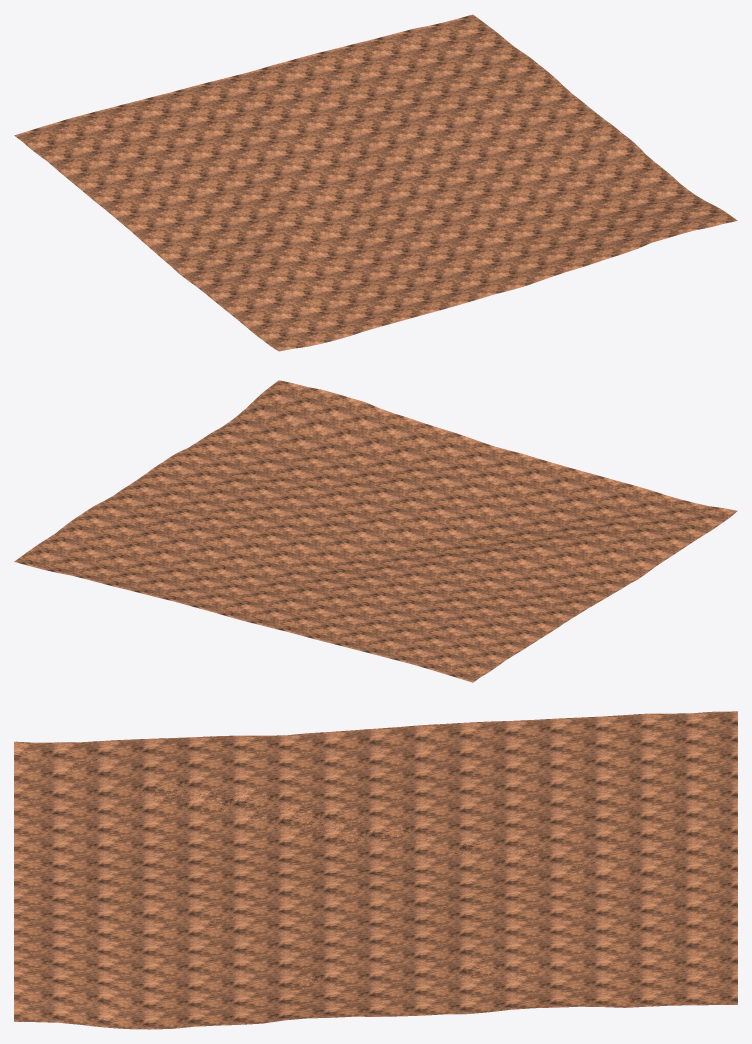
The model's file is terrain_08_21.dae.
3 views of the same model, one above another, from view 1: azimuth 30°, elevation 25°; view 2: azimuth 150°, elevation 25°; view 3: azimuth 270°, elevation 25° (orthographic). The views are drawn at different scales.
Visible parts, largest first — view 1: terrain_08_21-node; view 2: terrain_08_21-node; view 3: terrain_08_21-node.
Boxes of the visible parts, left/top/right/bottom form: terrain_08_21-node: left=14, top=14, right=737, bottom=351; terrain_08_21-node: left=14, top=380, right=737, bottom=682; terrain_08_21-node: left=14, top=711, right=737, bottom=1029.
Size of the model in its own units: 128 by 128 by 9.02.
1 material, 1 textured.
